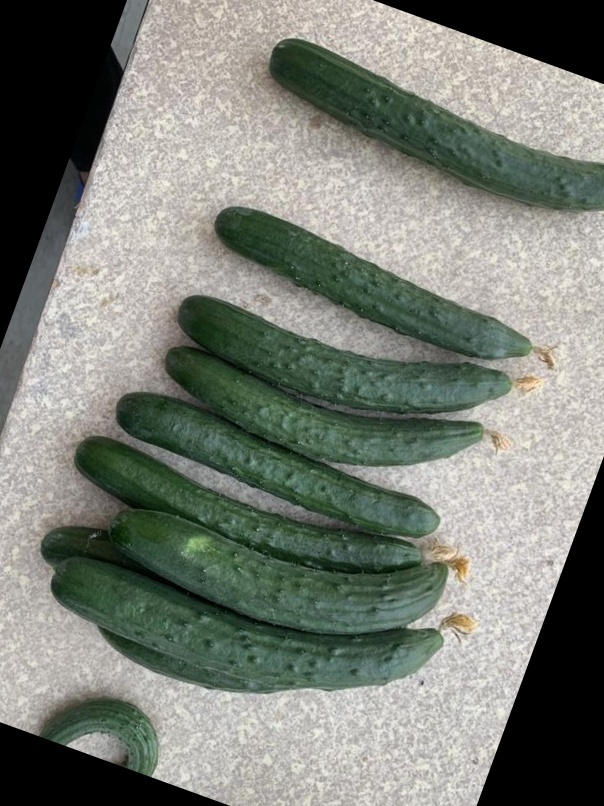mature: (271, 31, 602, 210), (53, 560, 444, 696), (219, 200, 536, 359), (73, 435, 430, 572), (116, 385, 444, 534), (112, 505, 451, 634), (171, 292, 514, 415), (164, 348, 485, 464)
